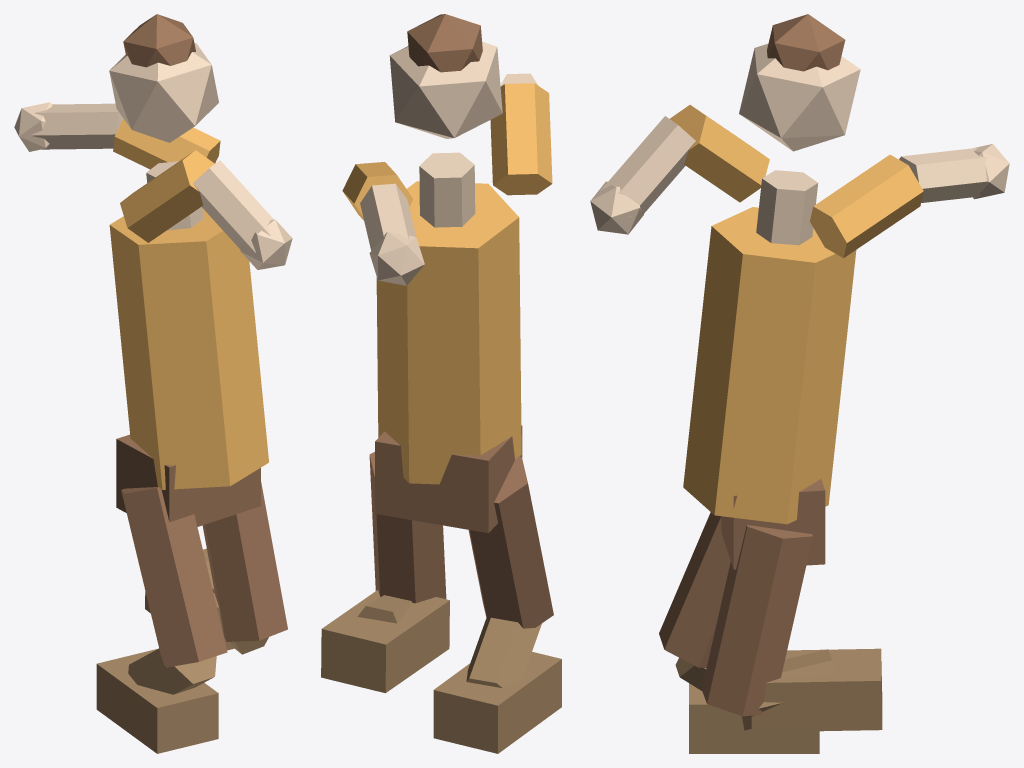
File: pose_attack_1_10.glb
3 renders of one model, left to right at view 1: azimuth 30°, elevation 25°; view 2: azimuth 150°, elevation 25°; view 3: azimuth 270°, elevation 25°, orthographic. The views are drawn at different scales.
Visible parts, largest first — view 1: pose; view 2: pose; view 3: pose.
Boxes of the visible parts, box(x1,y1,x2,y2) form: pose: box(14, 14, 292, 753); pose: box(321, 14, 561, 753); pose: box(590, 14, 1009, 753).
Size of the model in its own units: 0.3694 by 1.5 by 0.7718.
